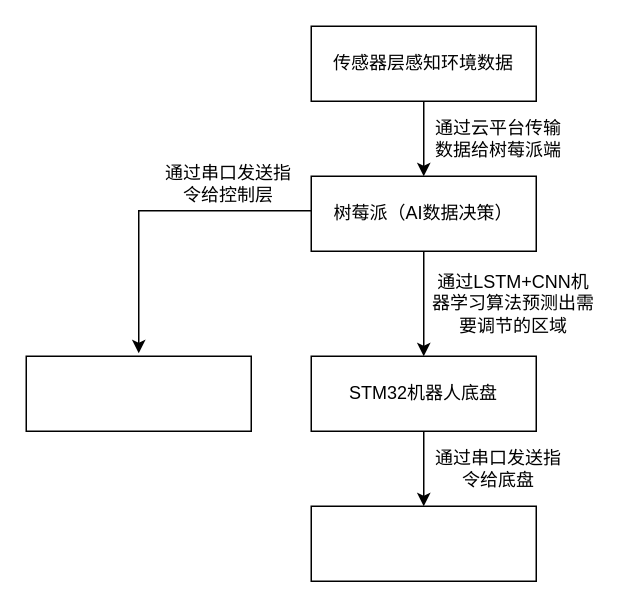
This 623x608 diagram has some shape labels left out. The box of each missing label's shape, as (x1, y1, x2, y2) in pixels:
根据预测结果控制风扇或加湿器调控该区域: (25, 355, 251, 431)
驱动轮子移动至该区域: (310, 505, 536, 581)
